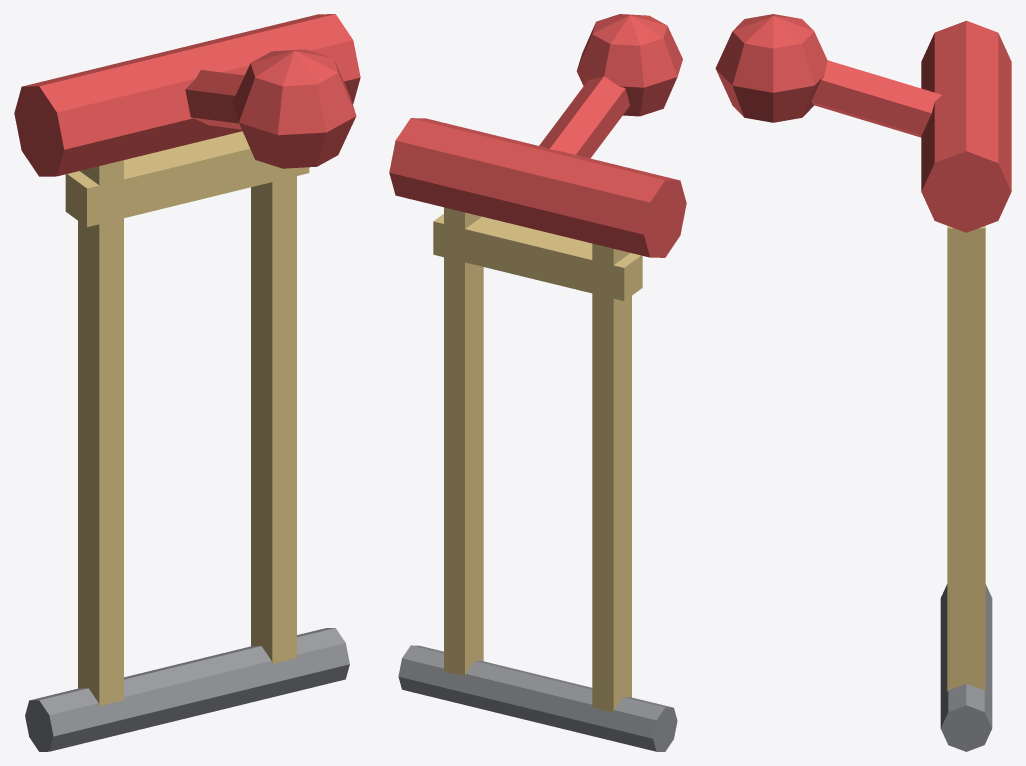
Rendered from HJ_Palanca.fbx.
3 views of the same model, side by side, from view 1: azimuth 30°, elevation 25°; view 2: azimuth 150°, elevation 25°; view 3: azimuth 270°, elevation 25° (orthographic). The views are drawn at different scales.
Parts seen in each view (by area): view 1: HJ_Palanca; view 2: HJ_Palanca; view 3: HJ_Palanca.
Part boxes in pixels (x1=…): HJ_Palanca: x1=14, y1=14, x2=360, y2=751; HJ_Palanca: x1=389, y1=14, x2=686, y2=751; HJ_Palanca: x1=715, y1=14, x2=1011, y2=751.
Bounding box in the file's own units: 0.24 × 0.575 × 0.23.
